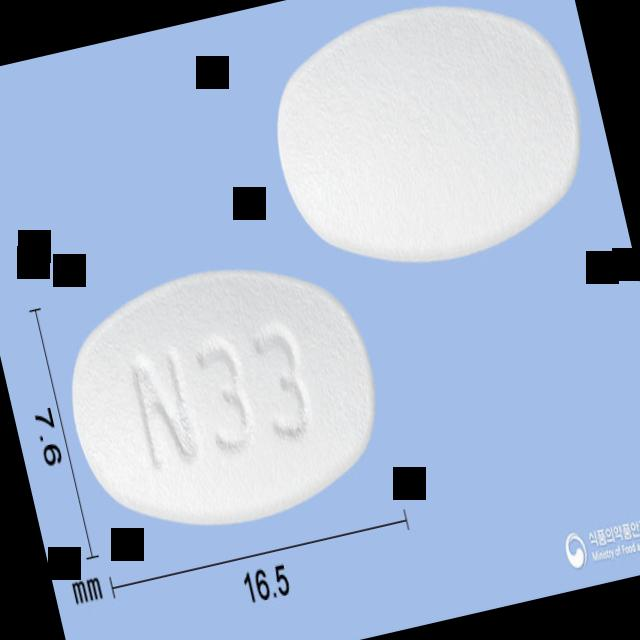Moxiclen Tab: (47, 238, 397, 554)
